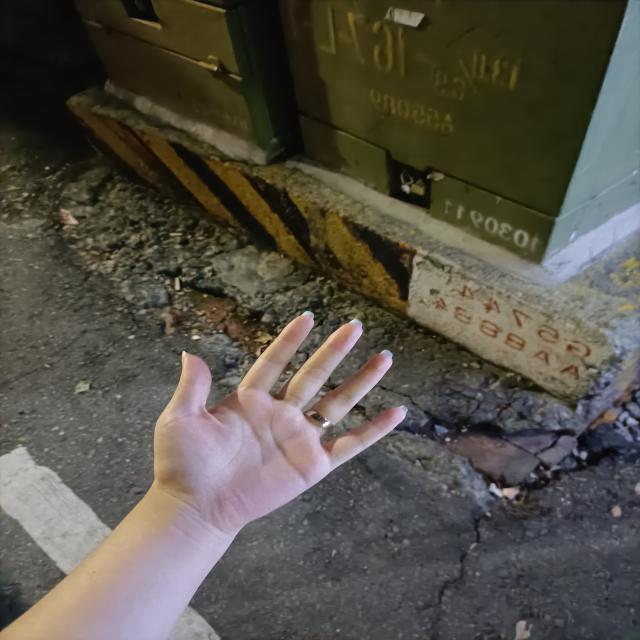no_glove: (135, 300, 413, 536)
